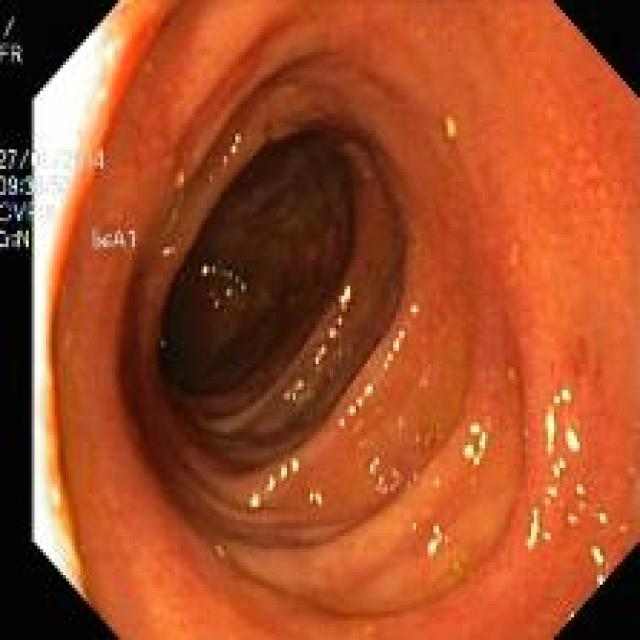ulcerative-colitis-grade-1: (35, 3, 640, 639)
